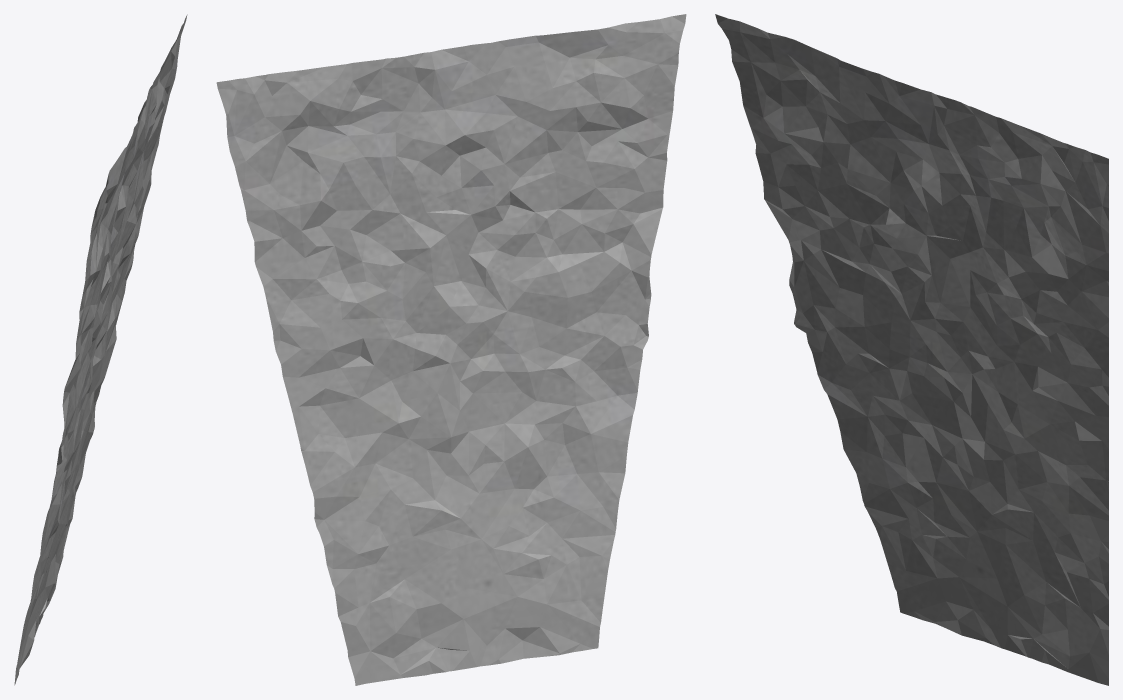
The picture shows the model from 3 angles, left to right: view 1: azimuth 30°, elevation 25°; view 2: azimuth 150°, elevation 25°; view 3: azimuth 270°, elevation 25°; orthographic projection. The views are drawn at different scales.
Bounding box in the file's own units: 0.4346 × 0.8374 × 0.4993.
Materials: 2 (2 with a texture image).
